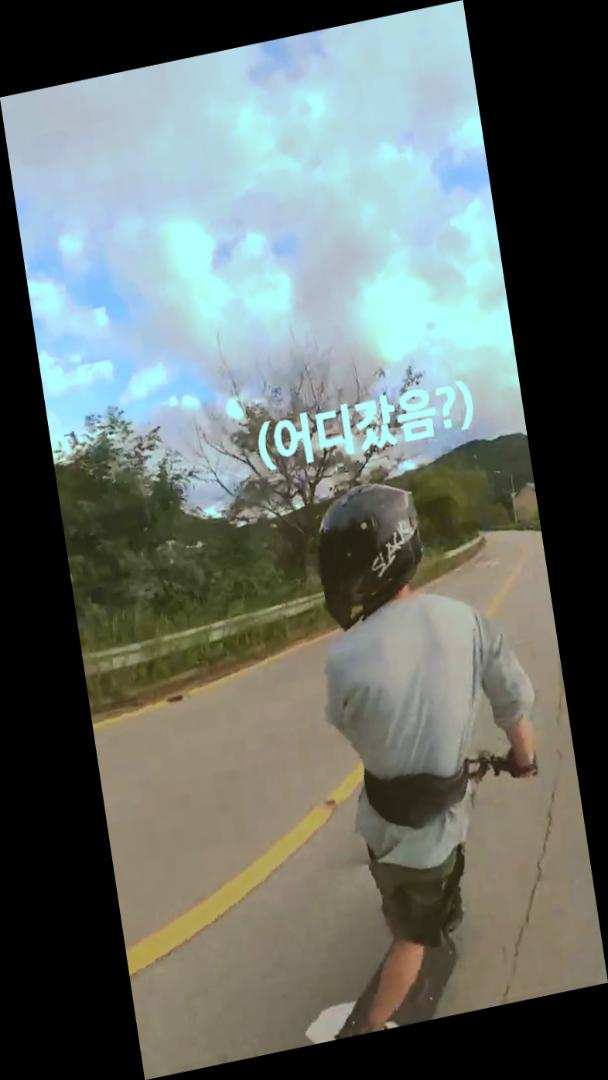helmet: (247, 454, 583, 1042)
